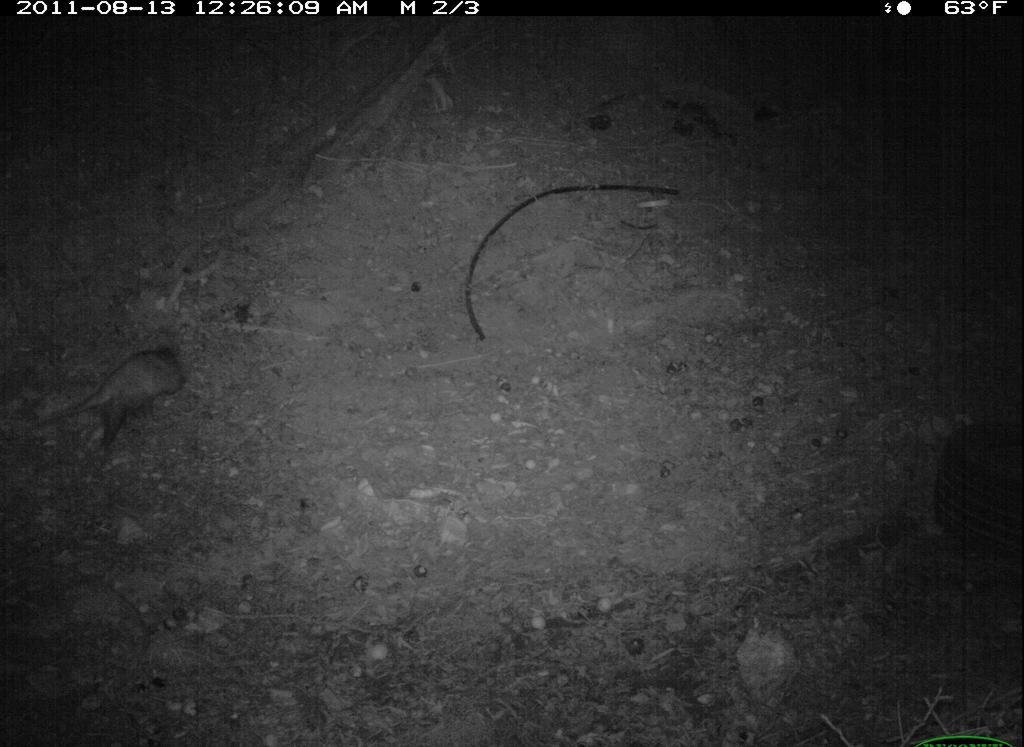opossum: (30, 341, 196, 455)
